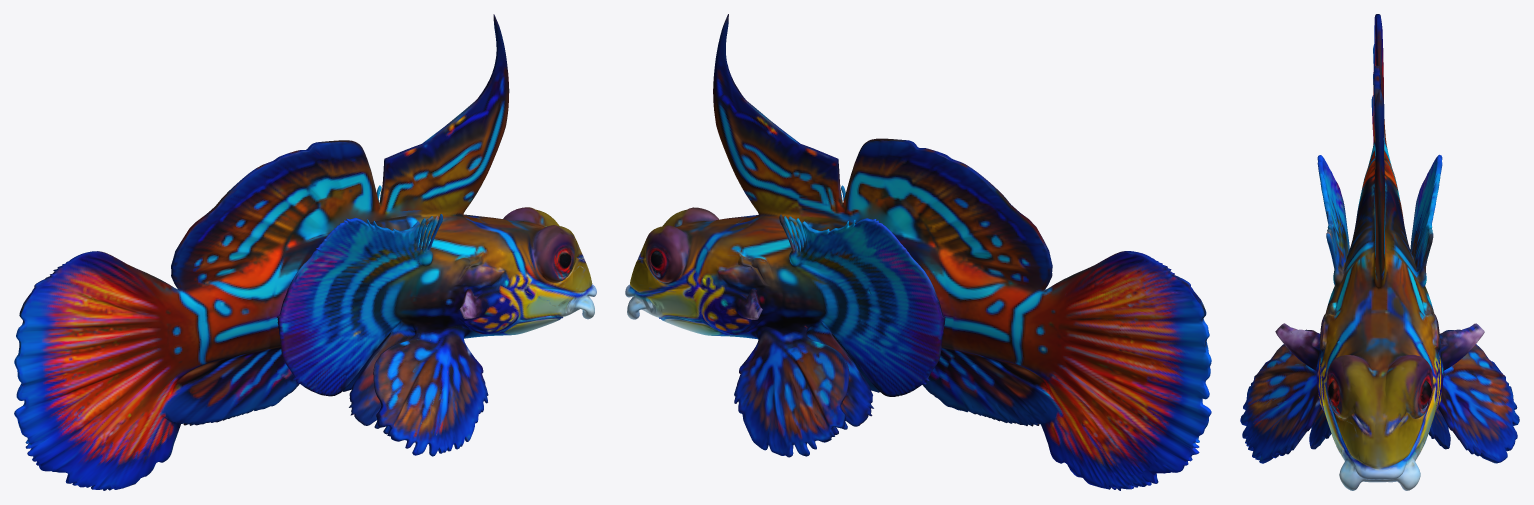
File: mandarin fish.glb
The picture shows the model from 3 angles, left to right: view 1: azimuth 30°, elevation 25°; view 2: azimuth 150°, elevation 25°; view 3: azimuth 270°, elevation 25°; orthographic projection. The views are drawn at different scales.
Visible parts, largest first — view 1: material; view 2: material; view 3: material.
Part boxes in pixels (box(x1,y1,x2,y2)): material: box(14, 14, 596, 490); material: box(625, 14, 1211, 490); material: box(1240, 14, 1519, 490).
Bounding box in the file's own units: 1.13 × 0.7166 × 0.421.
Materials: 1 (1 with a texture image).
